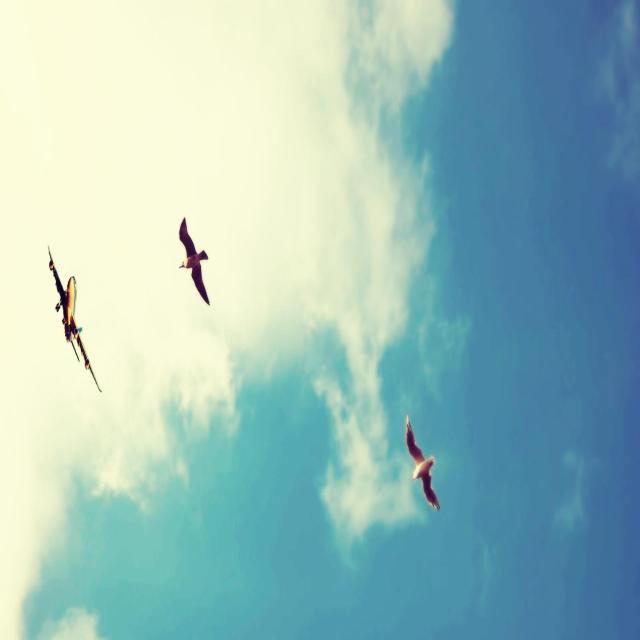airplane: (47, 244, 102, 392)
